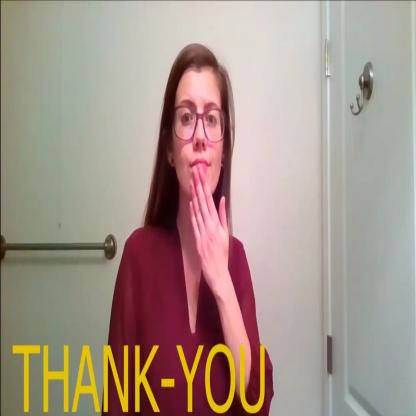ThankYou: (166, 38, 240, 288)
